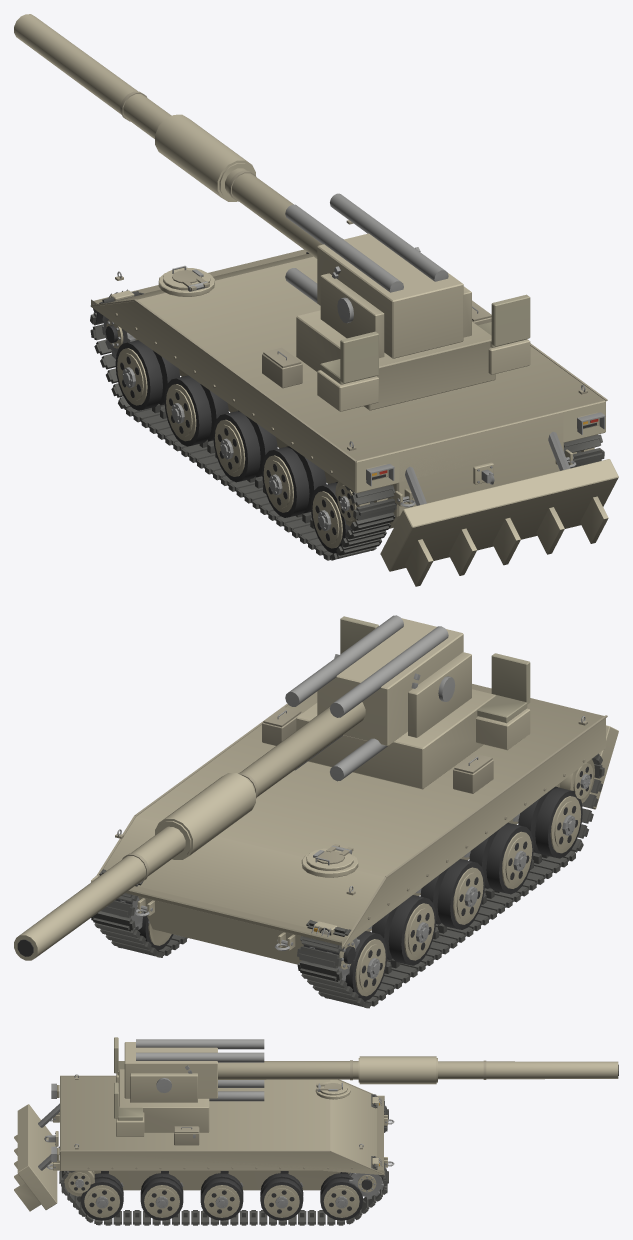
Rendered from usa_spg_m110.glb.
The picture shows the model from 3 angles, top to bottom: view 1: azimuth 30°, elevation 25°; view 2: azimuth 150°, elevation 25°; view 3: azimuth 270°, elevation 25°; orthographic projection. The views are drawn at different scales.
Visible parts, largest first — view 1: body, barrel, turret; view 2: body, barrel, turret; view 3: body, barrel, turret.
Boxes of the visible parts, x1,y1,x2,y2 form: body: (90, 220, 618, 586); barrel: (14, 14, 463, 358); turret: (296, 247, 495, 410); body: (91, 616, 618, 1008); barrel: (14, 615, 463, 960); turret: (296, 652, 495, 789); body: (14, 1037, 394, 1225); barrel: (124, 1039, 618, 1101); turret: (119, 1065, 209, 1132).
Size of the model in its own units: 3.19 by 2.78 by 10.74.
